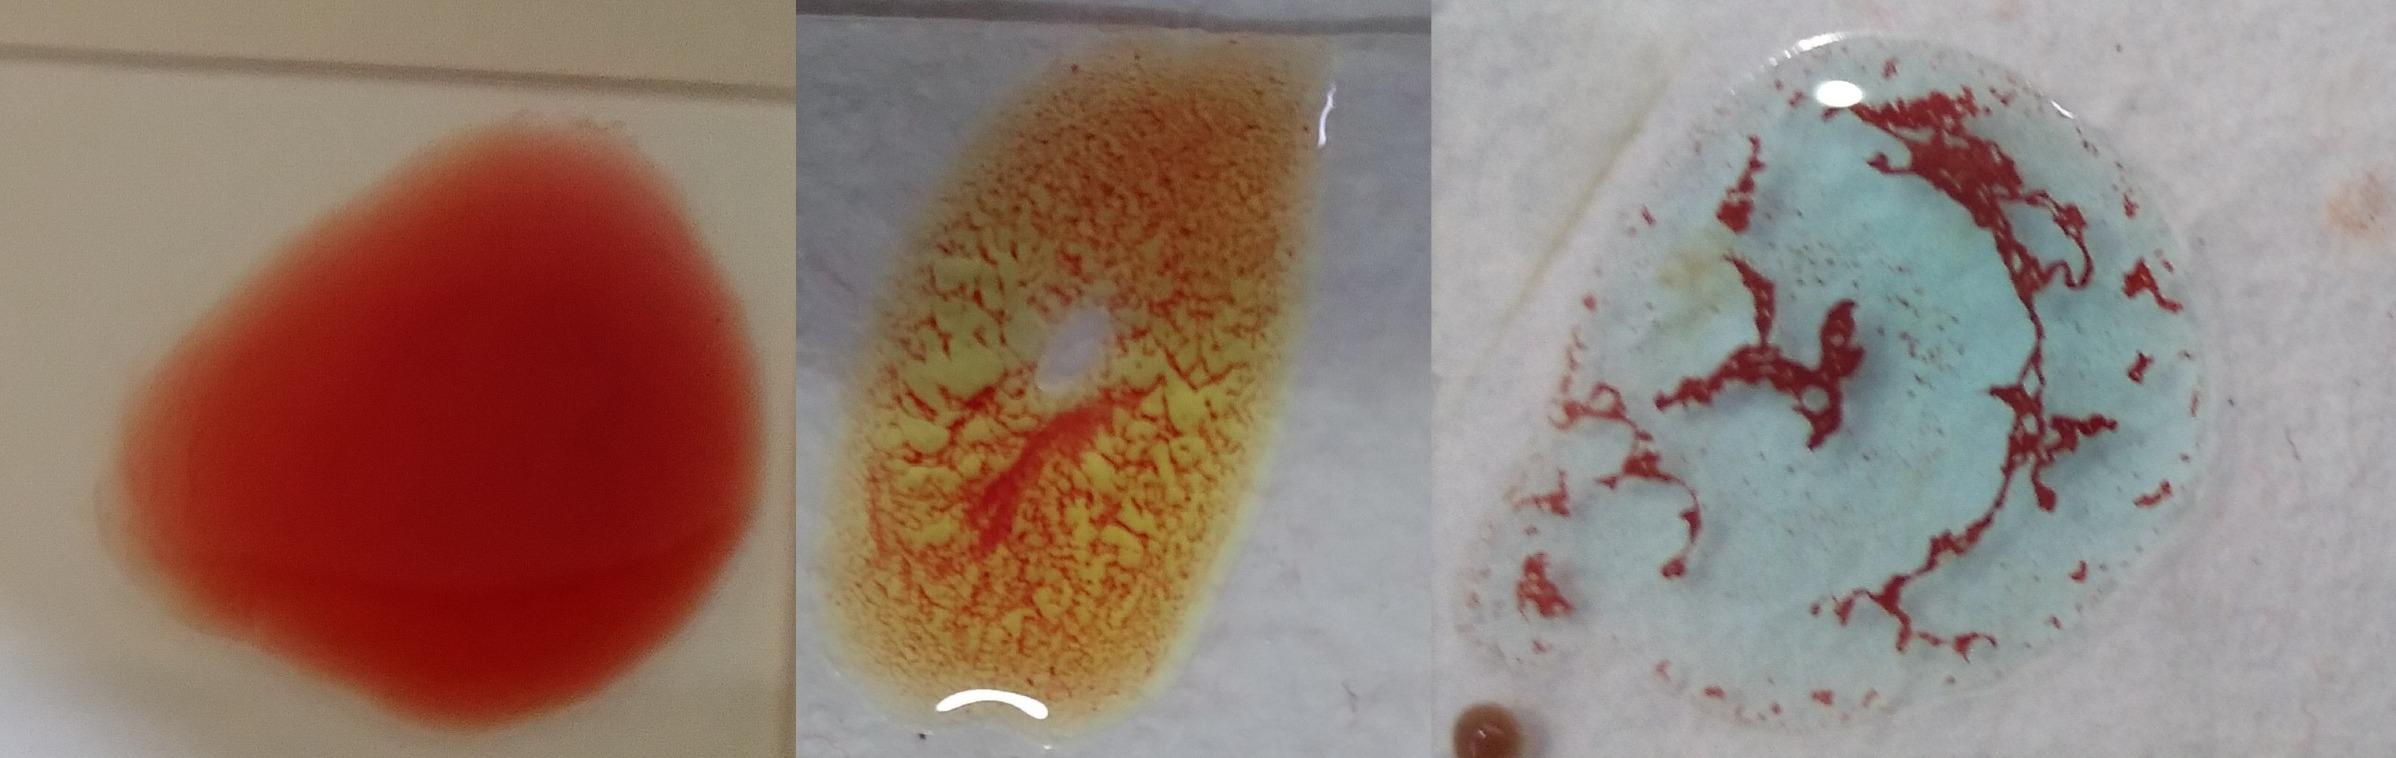A: (1560, 40, 2194, 732)
B: (848, 31, 1316, 723)
